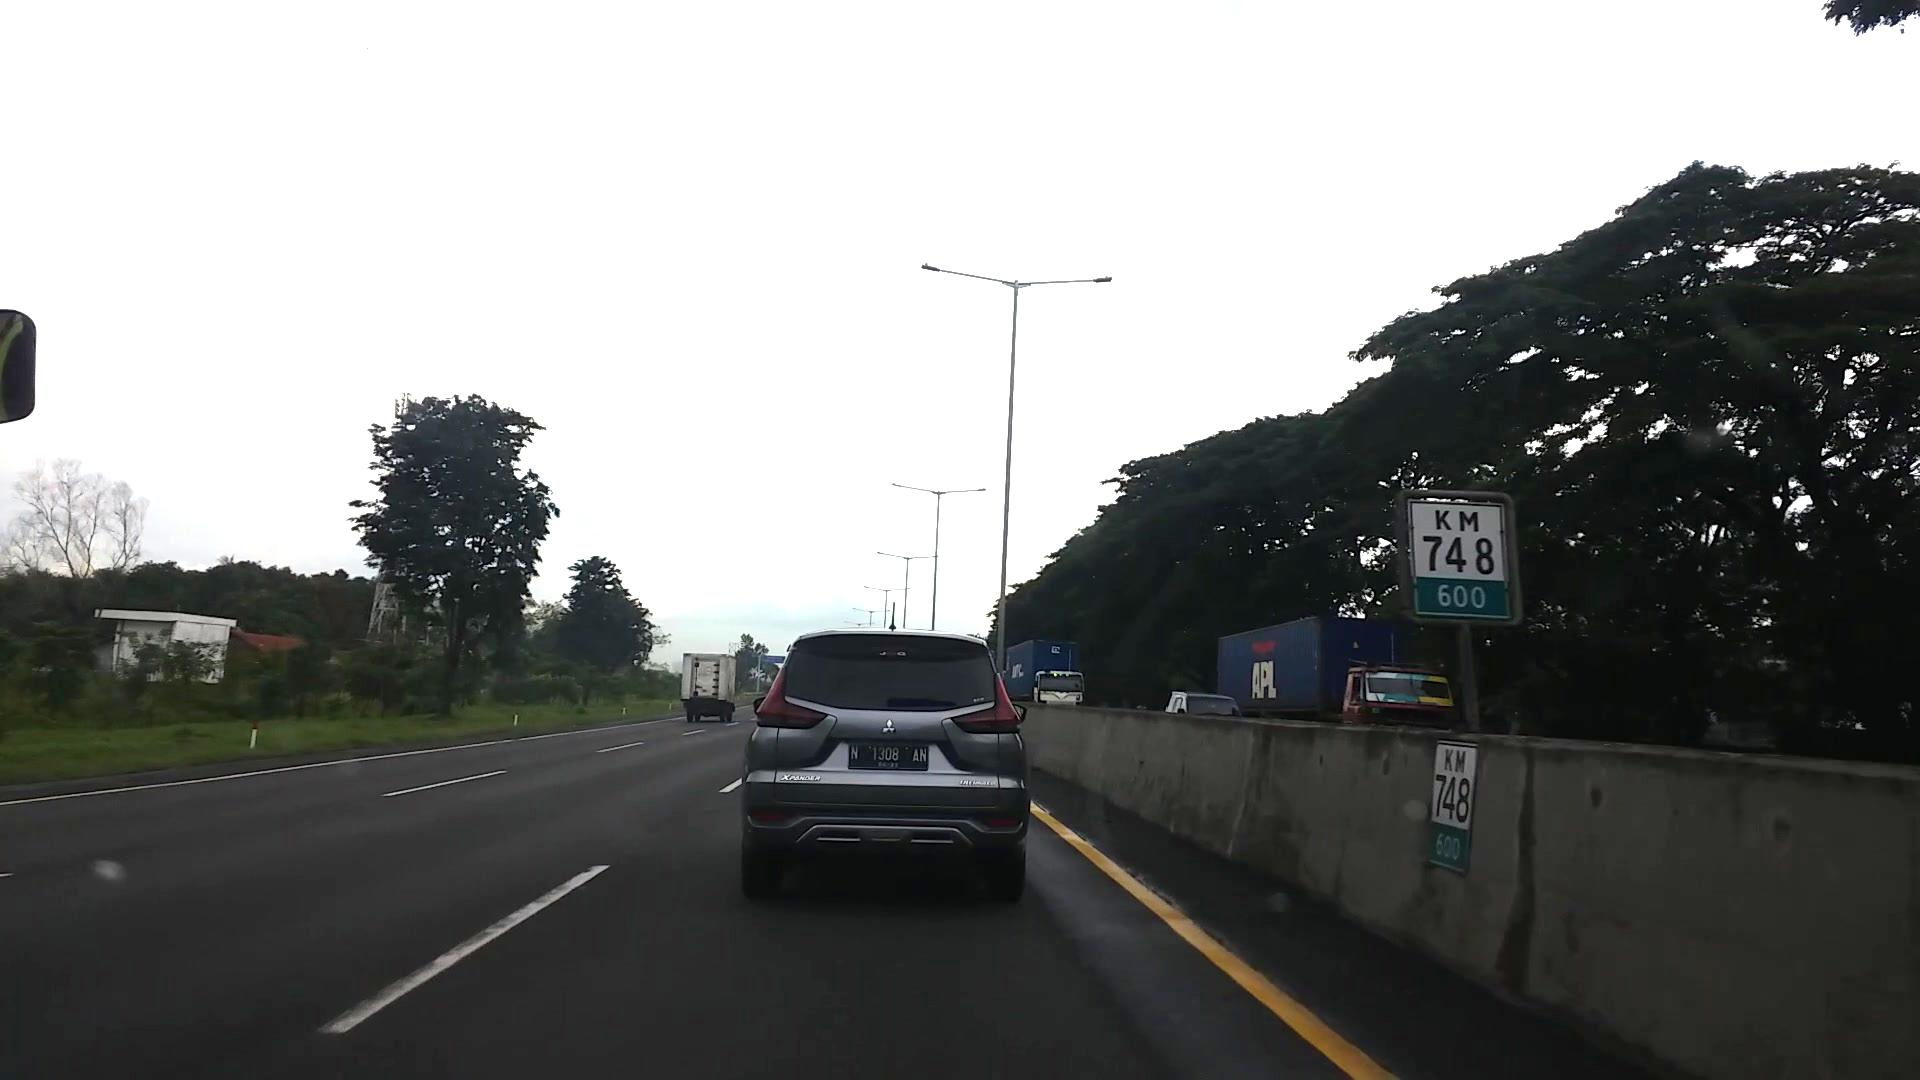plate_positive: (848, 742, 928, 771)
